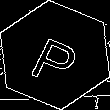P_NE: (26, 25, 84, 85)
